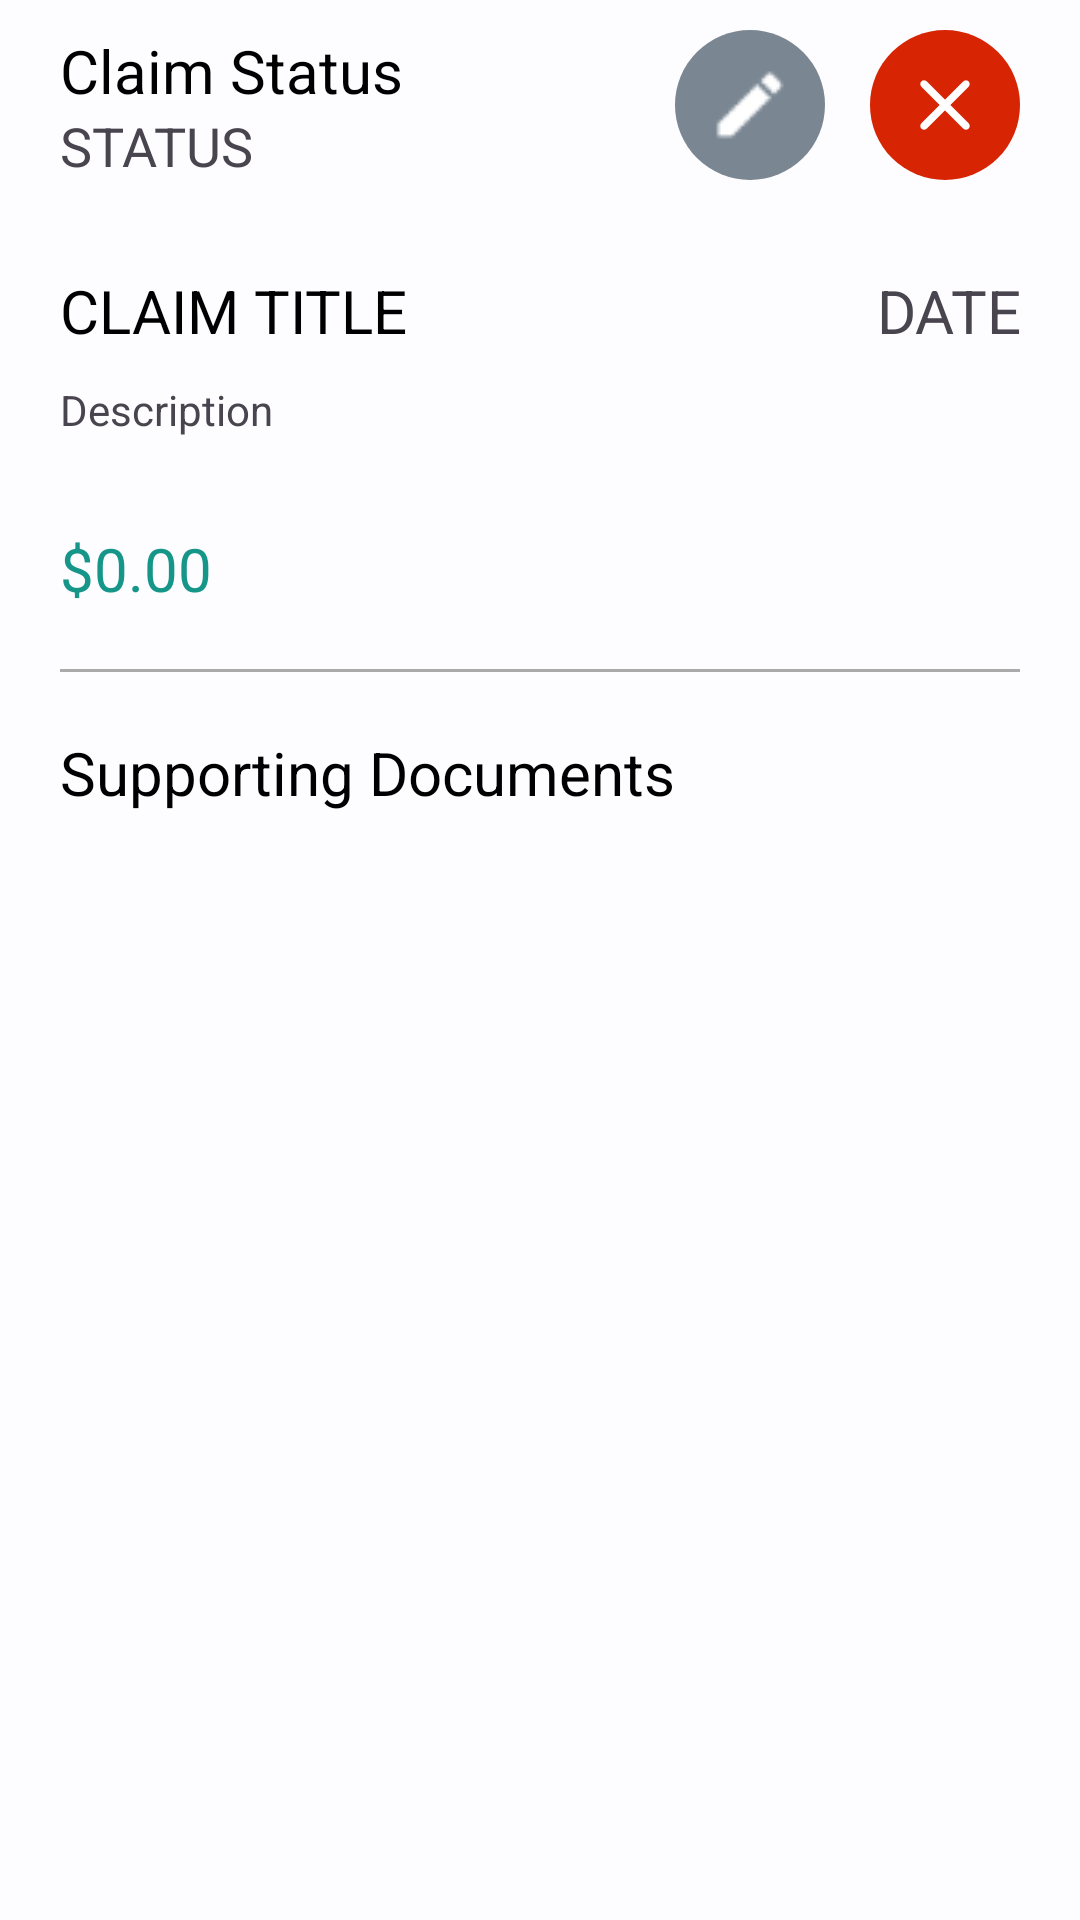

Named icons in this screenshot (1080×1920) and their bounding boxes, [x1,y1,x2,y2]:
cancel: [870,30,1020,180]
edit: [675,30,825,180]
